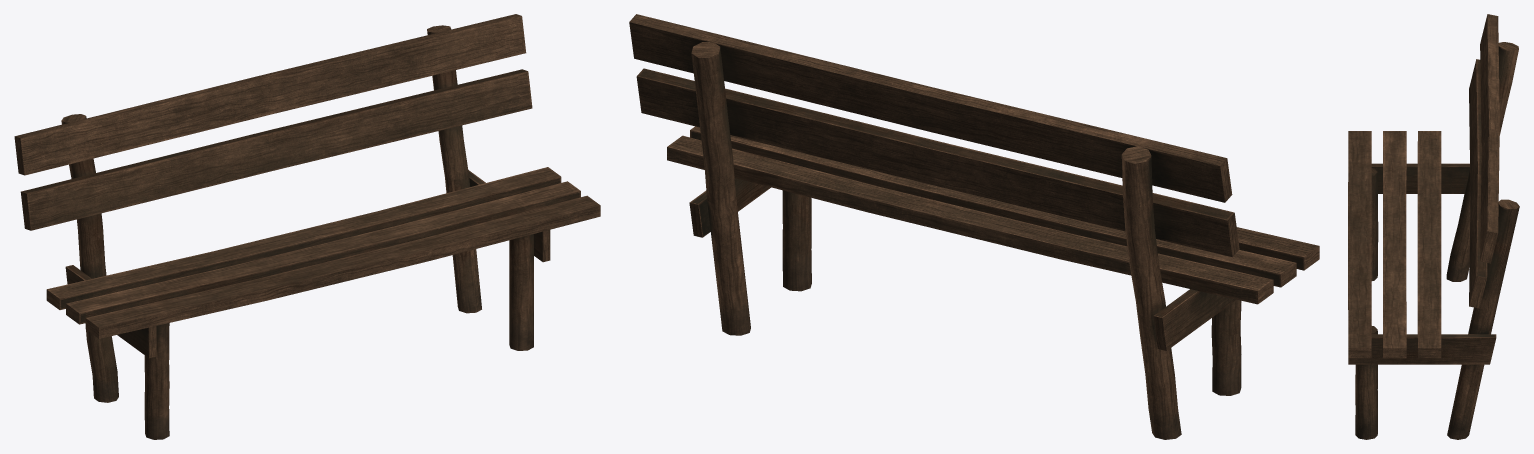
Rendered from bench.glb.
3 views of the same model, side by side, from view 1: azimuth 30°, elevation 25°; view 2: azimuth 150°, elevation 25°; view 3: azimuth 270°, elevation 25° (orthographic). The views are drawn at different scales.
Parts seen in each view (by area): view 1: Wood boards.011, Pillars.001; view 2: Wood boards.011, Pillars.001; view 3: Wood boards.011, Pillars.001.
Part boxes in pixels (x1=…): Wood boards.011: x1=14, y1=14, x2=600, y2=358; Pillars.001: x1=61, y1=25, x2=533, y2=439; Wood boards.011: x1=629, y1=14, x2=1319, y2=350; Pillars.001: x1=691, y1=42, x2=1241, y2=439; Wood boards.011: x1=1348, y1=14, x2=1499, y2=364; Pillars.001: x1=1355, y1=42, x2=1519, y2=439.
Size of the model in its own units: 2 by 1 by 0.6681.
Materials: 1 (1 with a texture image).
